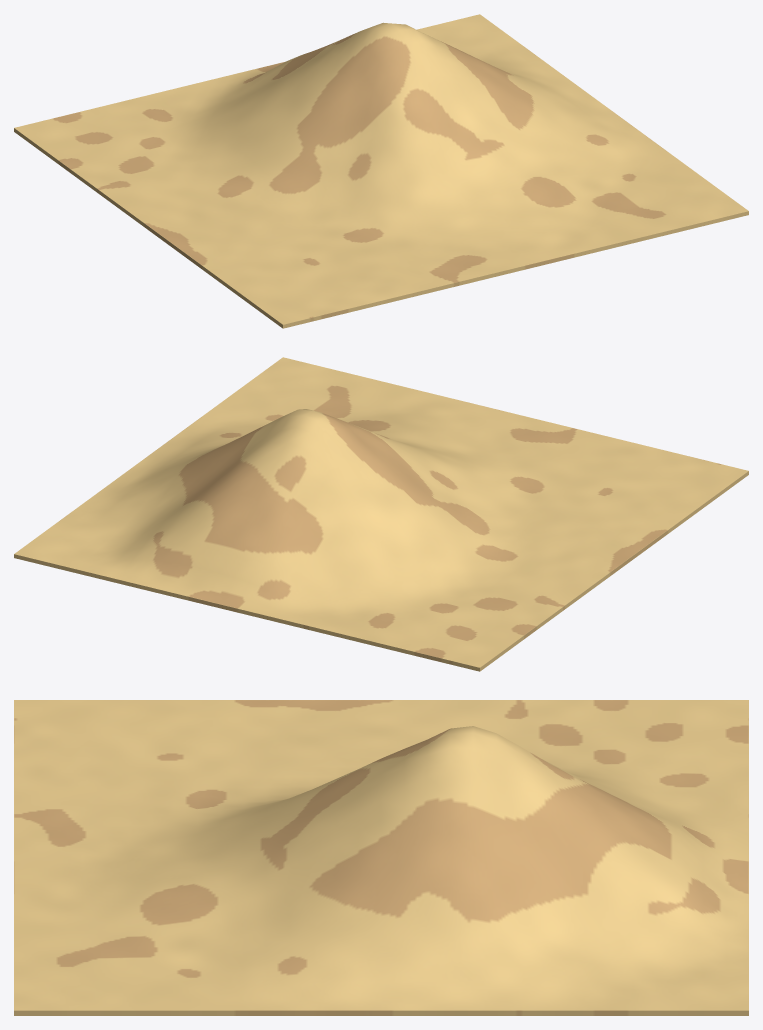
Rendered from Desert_Mountains_05.obj.
3 renders of one model, top to bottom at view 1: azimuth 30°, elevation 25°; view 2: azimuth 150°, elevation 25°; view 3: azimuth 270°, elevation 25°, orthographic. The views are drawn at different scales.
Bounding box in the file's own units: 10 × 2.35 × 10.
1 material, 1 textured.
